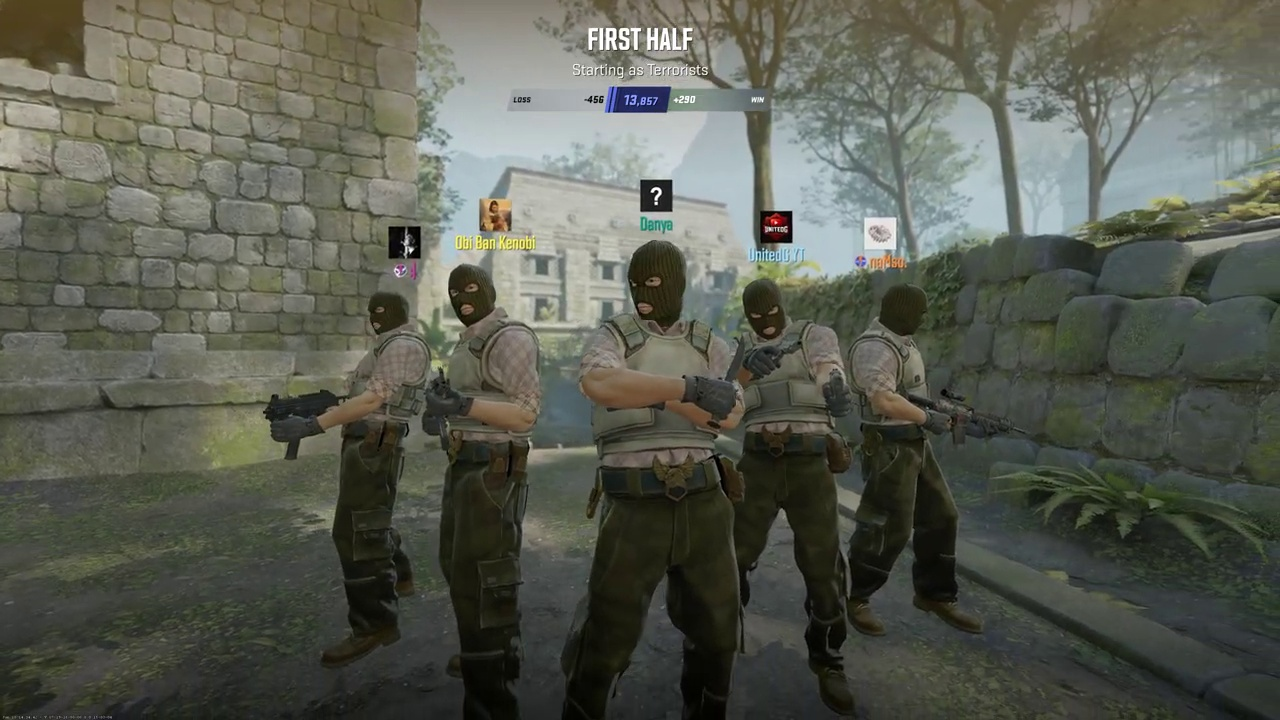Terrorist: (572, 243, 741, 714), (433, 266, 549, 719), (729, 280, 845, 713), (845, 285, 974, 641), (313, 282, 422, 665)
